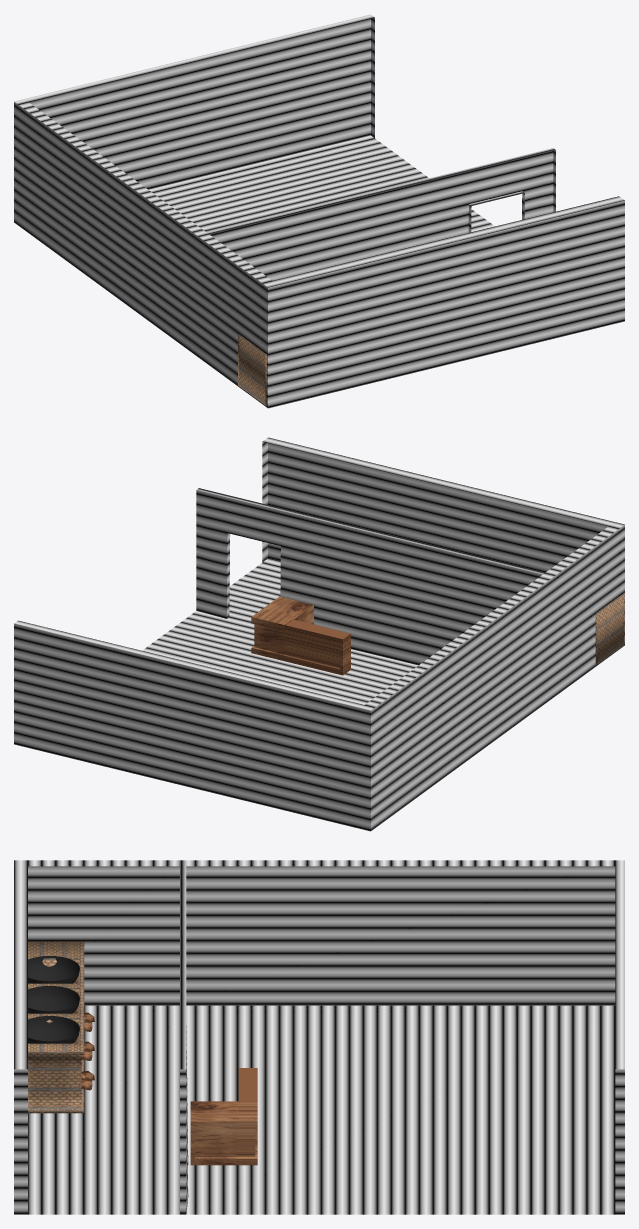
Rendered from kezhan.glb.
3 renders of one model, top to bottom at view 1: azimuth 30°, elevation 25°; view 2: azimuth 150°, elevation 25°; view 3: azimuth 270°, elevation 25°, orthographic. The views are drawn at different scales.
Parts seen in each view (by area): view 1: Cube, 立方体.001; view 2: Cube, 立方体, 立方体.001; view 3: Cube, 立方体.001, 立方体, 球体.001, 球体, 球体.002.
Boxes of the visible parts, left/top/right/bottom form: Cube: left=14, top=14, right=624, bottom=408; 立方体.001: left=238, top=334, right=266, bottom=405; Cube: left=14, top=437, right=624, bottom=831; 立方体: left=251, top=596, right=350, bottom=675; 立方体.001: left=595, top=593, right=624, bottom=665; Cube: left=14, top=860, right=624, bottom=1214; 立方体.001: left=28, top=941, right=84, bottom=1113; 立方体: left=190, top=1068, right=257, bottom=1165; 球体.001: left=28, top=986, right=79, bottom=1013; 球体: left=28, top=1016, right=79, bottom=1043; 球体.002: left=28, top=956, right=79, bottom=983.
Bounding box in the file's own units: 20.62 × 6.66 × 25.36.
Materials: 5 (4 with a texture image).
